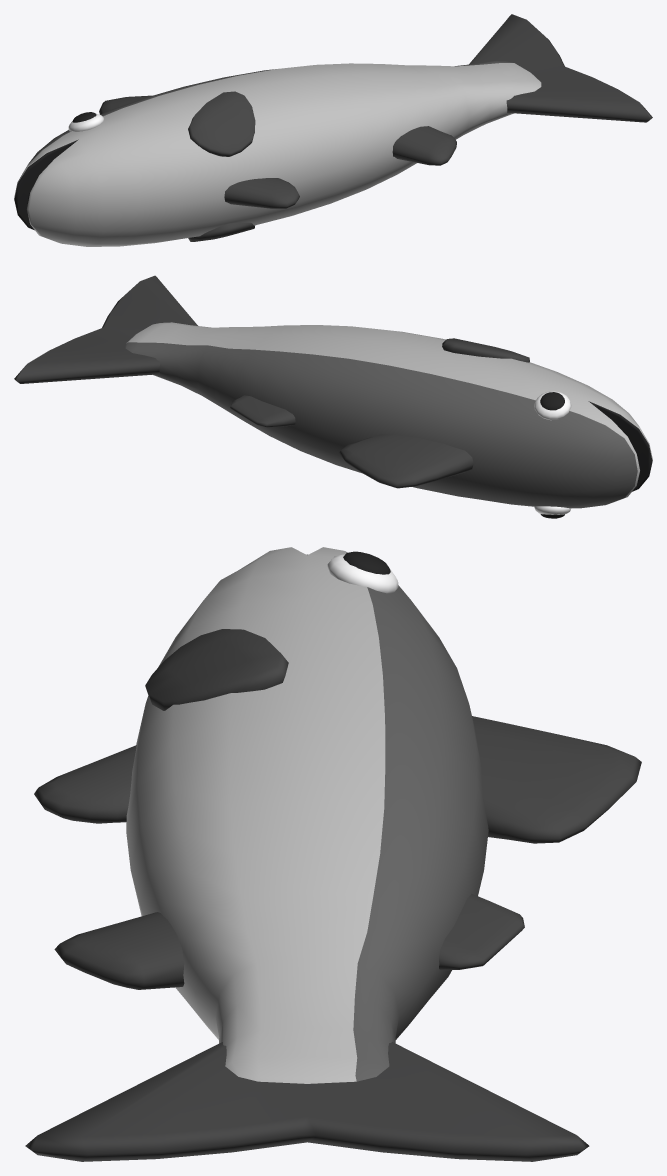
The model's file is SeaBass_2.fbx.
3 renders of one model, top to bottom at view 1: azimuth 30°, elevation 25°; view 2: azimuth 150°, elevation 25°; view 3: azimuth 270°, elevation 25°, orthographic. The views are drawn at different scales.
Visible parts, largest first — view 1: SeaBass_2; view 2: SeaBass_2; view 3: SeaBass_2.
Boxes of the visible parts, <box> form: SeaBass_2: <box>14,14,652,246</box>; SeaBass_2: <box>14,275,652,518</box>; SeaBass_2: <box>25,547,641,1161</box>.
Size of the model in its own units: 100 by 23.33 by 47.19.
